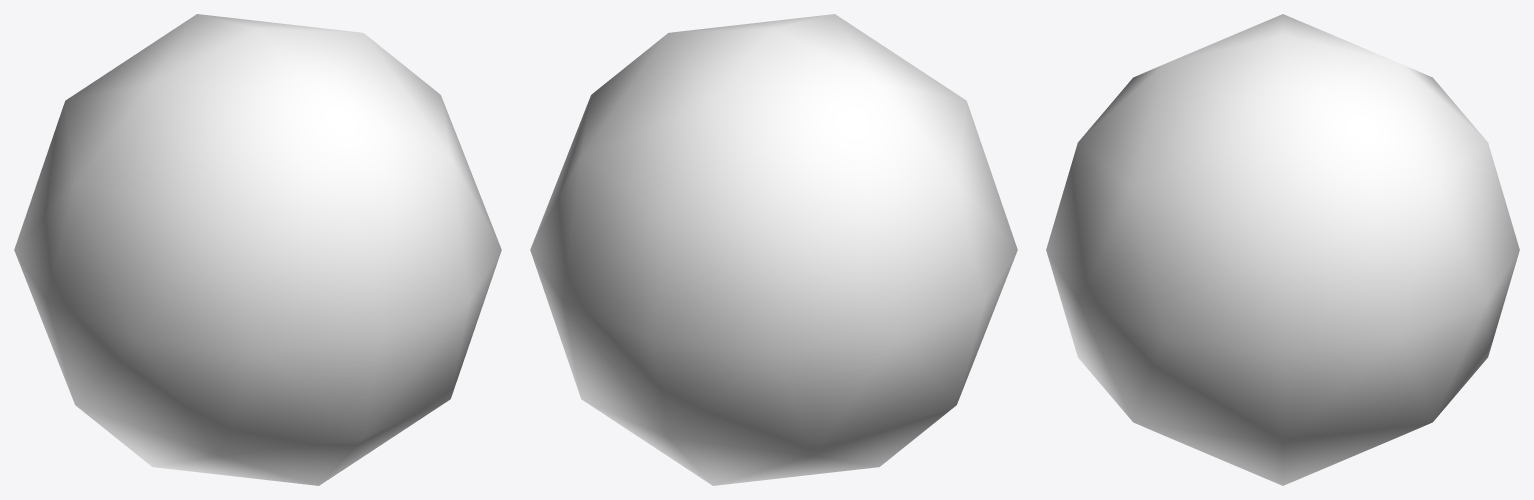
File: bubble.FBX
3 renders of one model, left to right at view 1: azimuth 30°, elevation 25°; view 2: azimuth 150°, elevation 25°; view 3: azimuth 270°, elevation 25°, orthographic. The views are drawn at different scales.
Parts seen in each view (by area): view 1: GeoSphere001; view 2: GeoSphere001; view 3: GeoSphere001.
Boxes of the visible parts, x1,y1,x2,y2 form: GeoSphere001: (14, 14, 501, 485); GeoSphere001: (530, 14, 1017, 485); GeoSphere001: (1046, 14, 1519, 485).
Bounding box in the file's own units: 100 × 100 × 100.
1 material, 1 textured.
